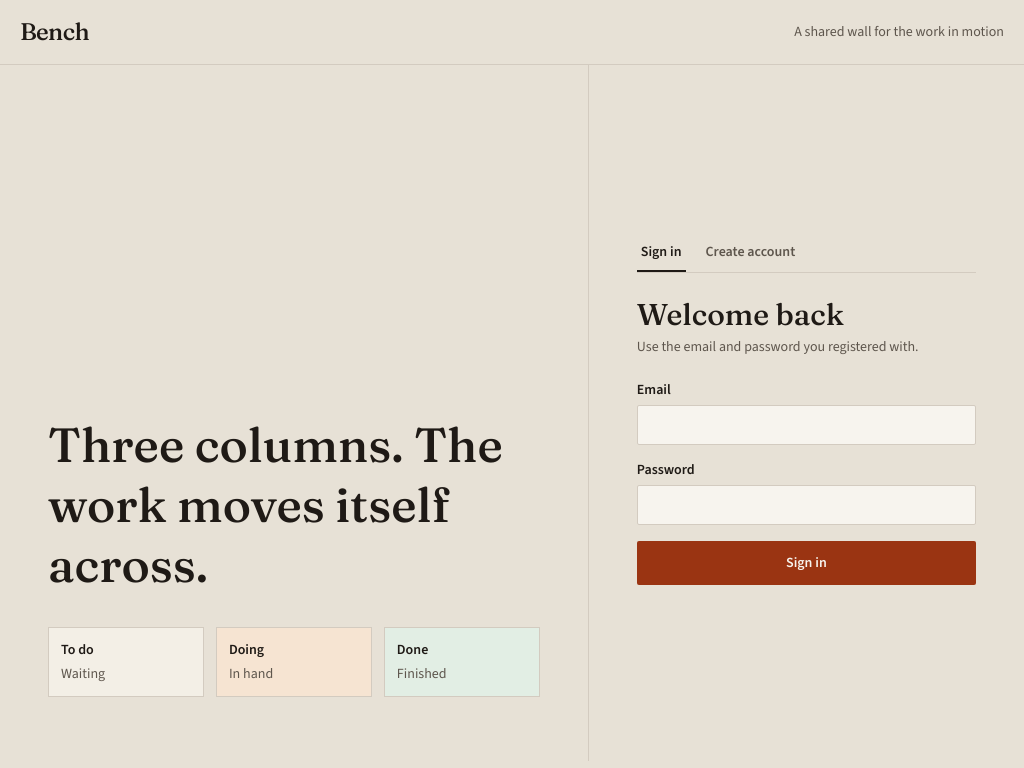
Test: AuthScreen › asks for a name when creating an account
Expected: the field labelled "Name" is not shown
Click the tab "Create account".
click(750, 256)  # box [702,242,799,272]
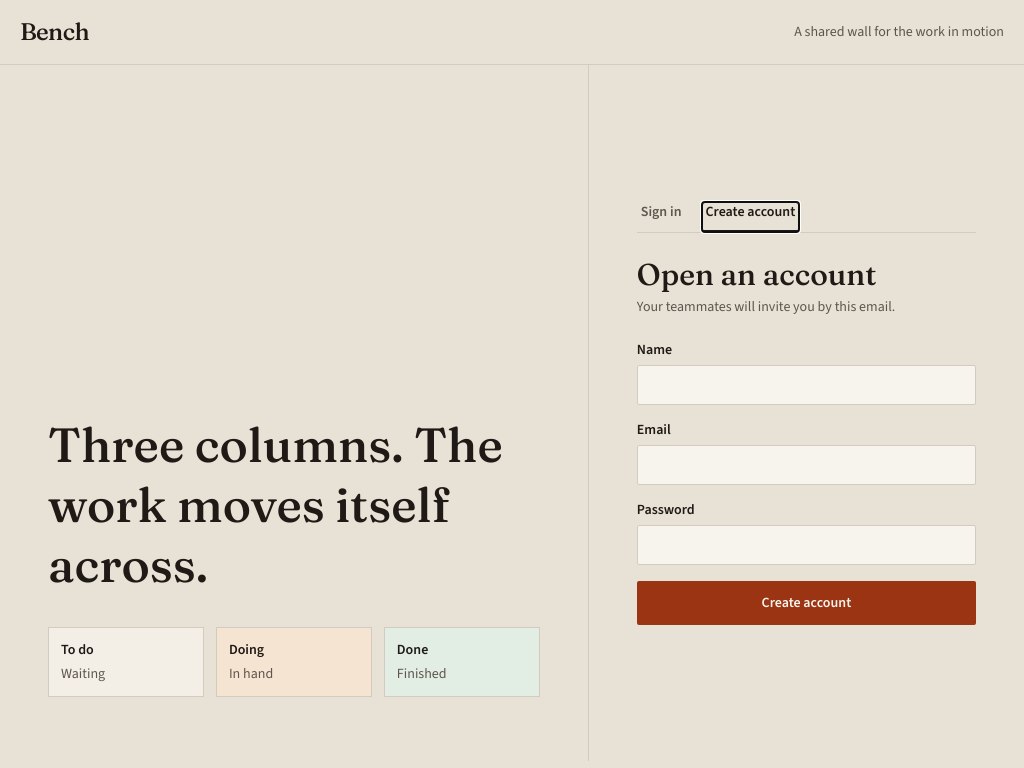
Now the field labelled "Name" is shown, box [637,364,976,404]
